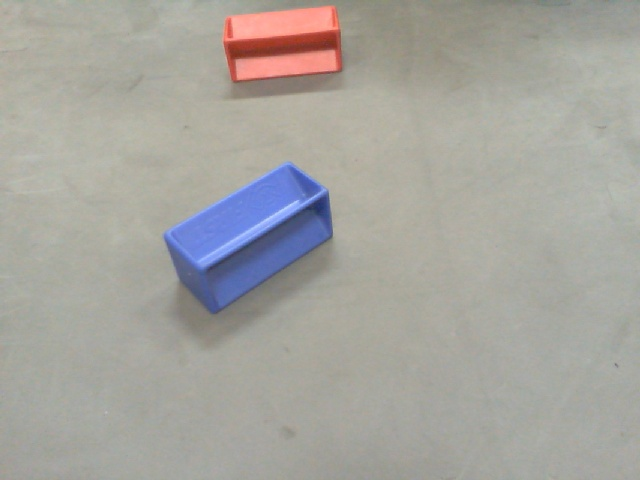BlueSample: (161, 158, 333, 318)
RedSample: (221, 3, 347, 86)
